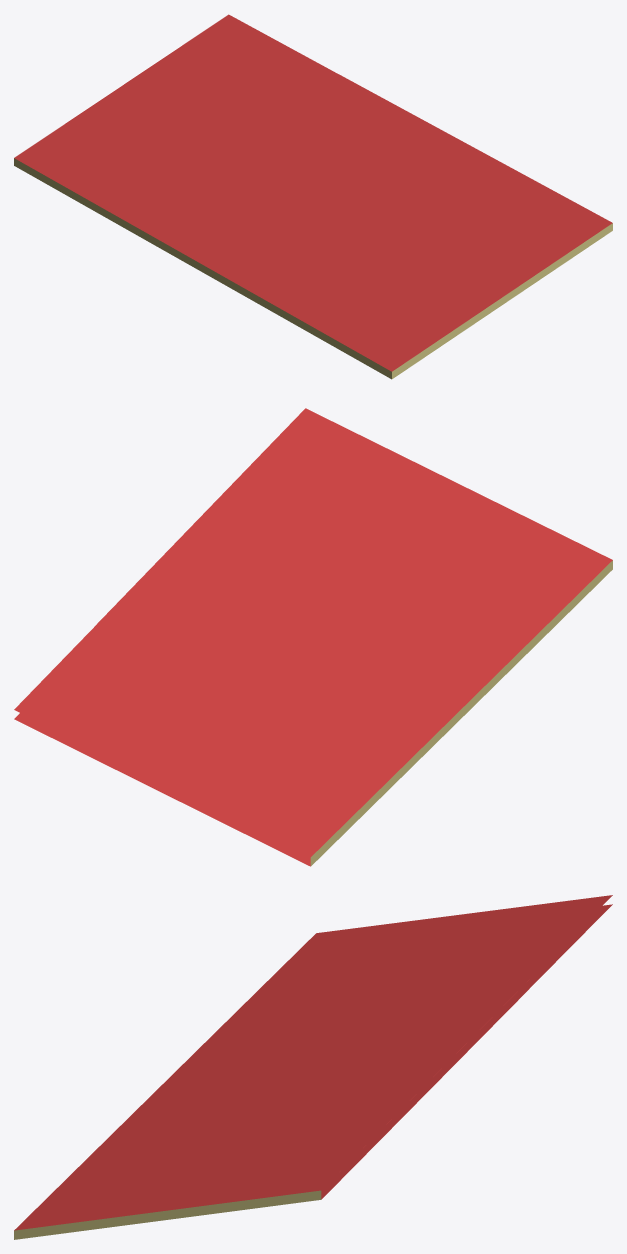
The picture shows the model from 3 angles, top to bottom: view 1: azimuth 30°, elevation 25°; view 2: azimuth 150°, elevation 25°; view 3: azimuth 330°, elevation 25°; orthographic projection. The views are drawn at different scales.
Size of the model in its own units: 4.1 by 7.73 by 1.13.
